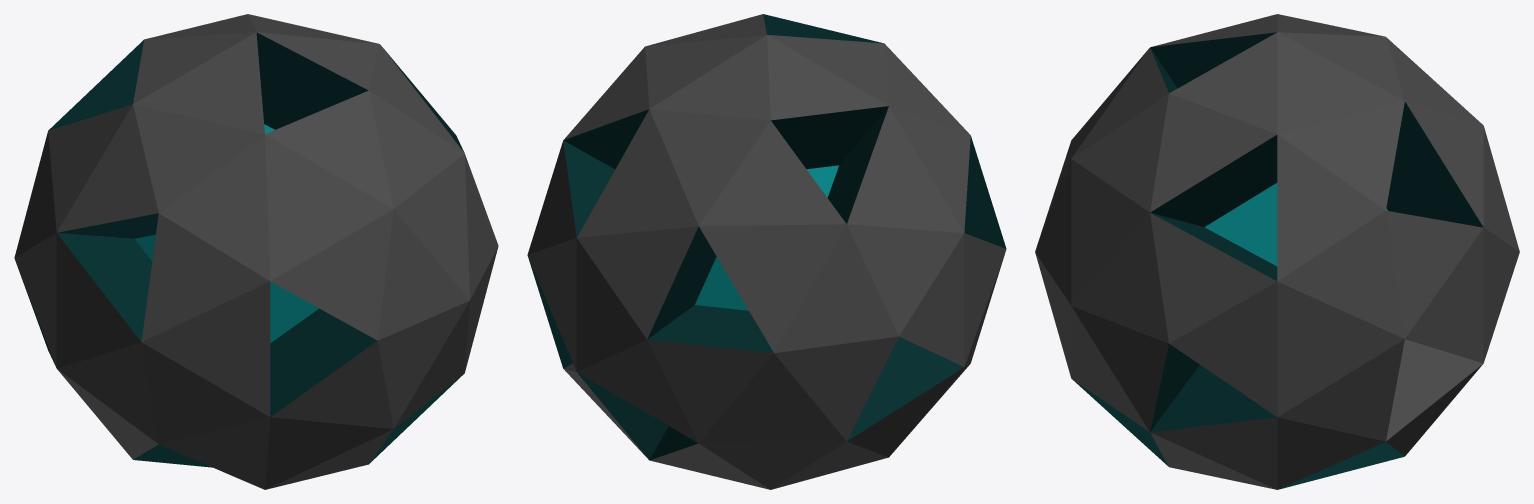
The model's file is meteor1.fbx.
The picture shows the model from 3 angles, left to right: view 1: azimuth 30°, elevation 25°; view 2: azimuth 150°, elevation 25°; view 3: azimuth 270°, elevation 25°; orthographic projection.
Visible parts, largest first — view 1: Icosphere.001; view 2: Icosphere.001; view 3: Icosphere.001.
Boxes of the visible parts, bbox=[...] form: Icosphere.001: bbox=[14, 14, 498, 489]; Icosphere.001: bbox=[527, 14, 1006, 489]; Icosphere.001: bbox=[1035, 14, 1519, 489].
Bounding box in the file's own units: 190 × 200 × 200.
